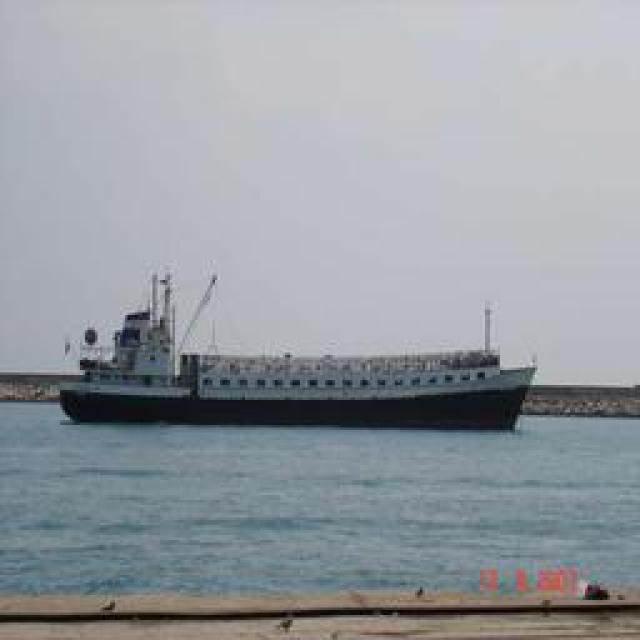Ship: (63, 281, 531, 434)
